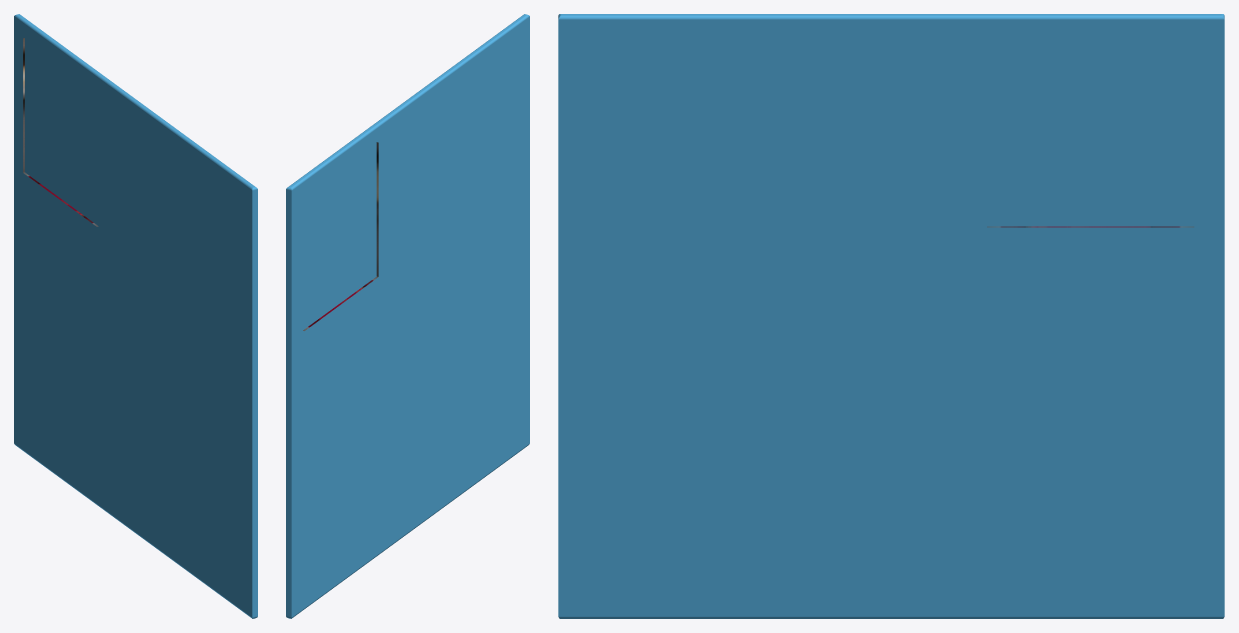
Rendered from Visitenkarte.glb.
3 views of the same model, side by side, from view 1: azimuth 30°, elevation 25°; view 2: azimuth 150°, elevation 25°; view 3: azimuth 270°, elevation 25° (orthographic). The views are drawn at different scales.
Parts seen in each view (by area): view 1: Cube, Plane; view 2: Cube, Plane; view 3: Cube.
Part boxes in pixels (x1,y1,x2,y2): Cube: (14,14,257,618); Plane: (23,38,98,226); Cube: (286,14,529,618); Plane: (303,142,378,330); Cube: (558,14,1224,618).
Bounding box in the file's own units: 0.0444 × 2 × 2.
Materials: 3 (1 with a texture image).
